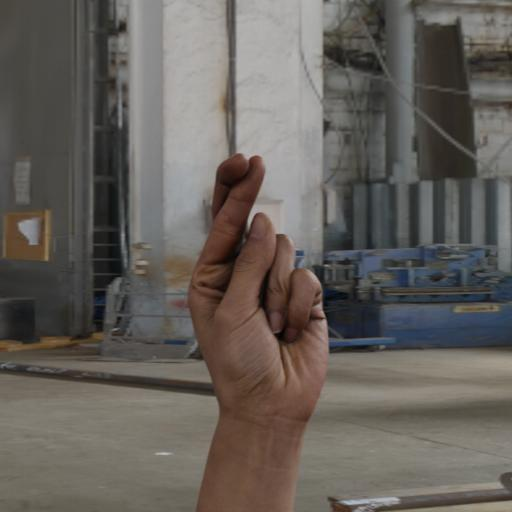R: (153, 122, 403, 453)
